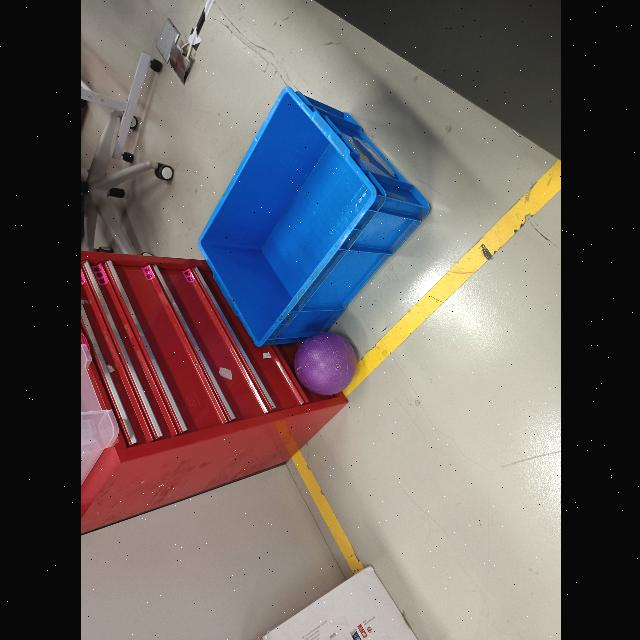P: (294, 332, 356, 396)
